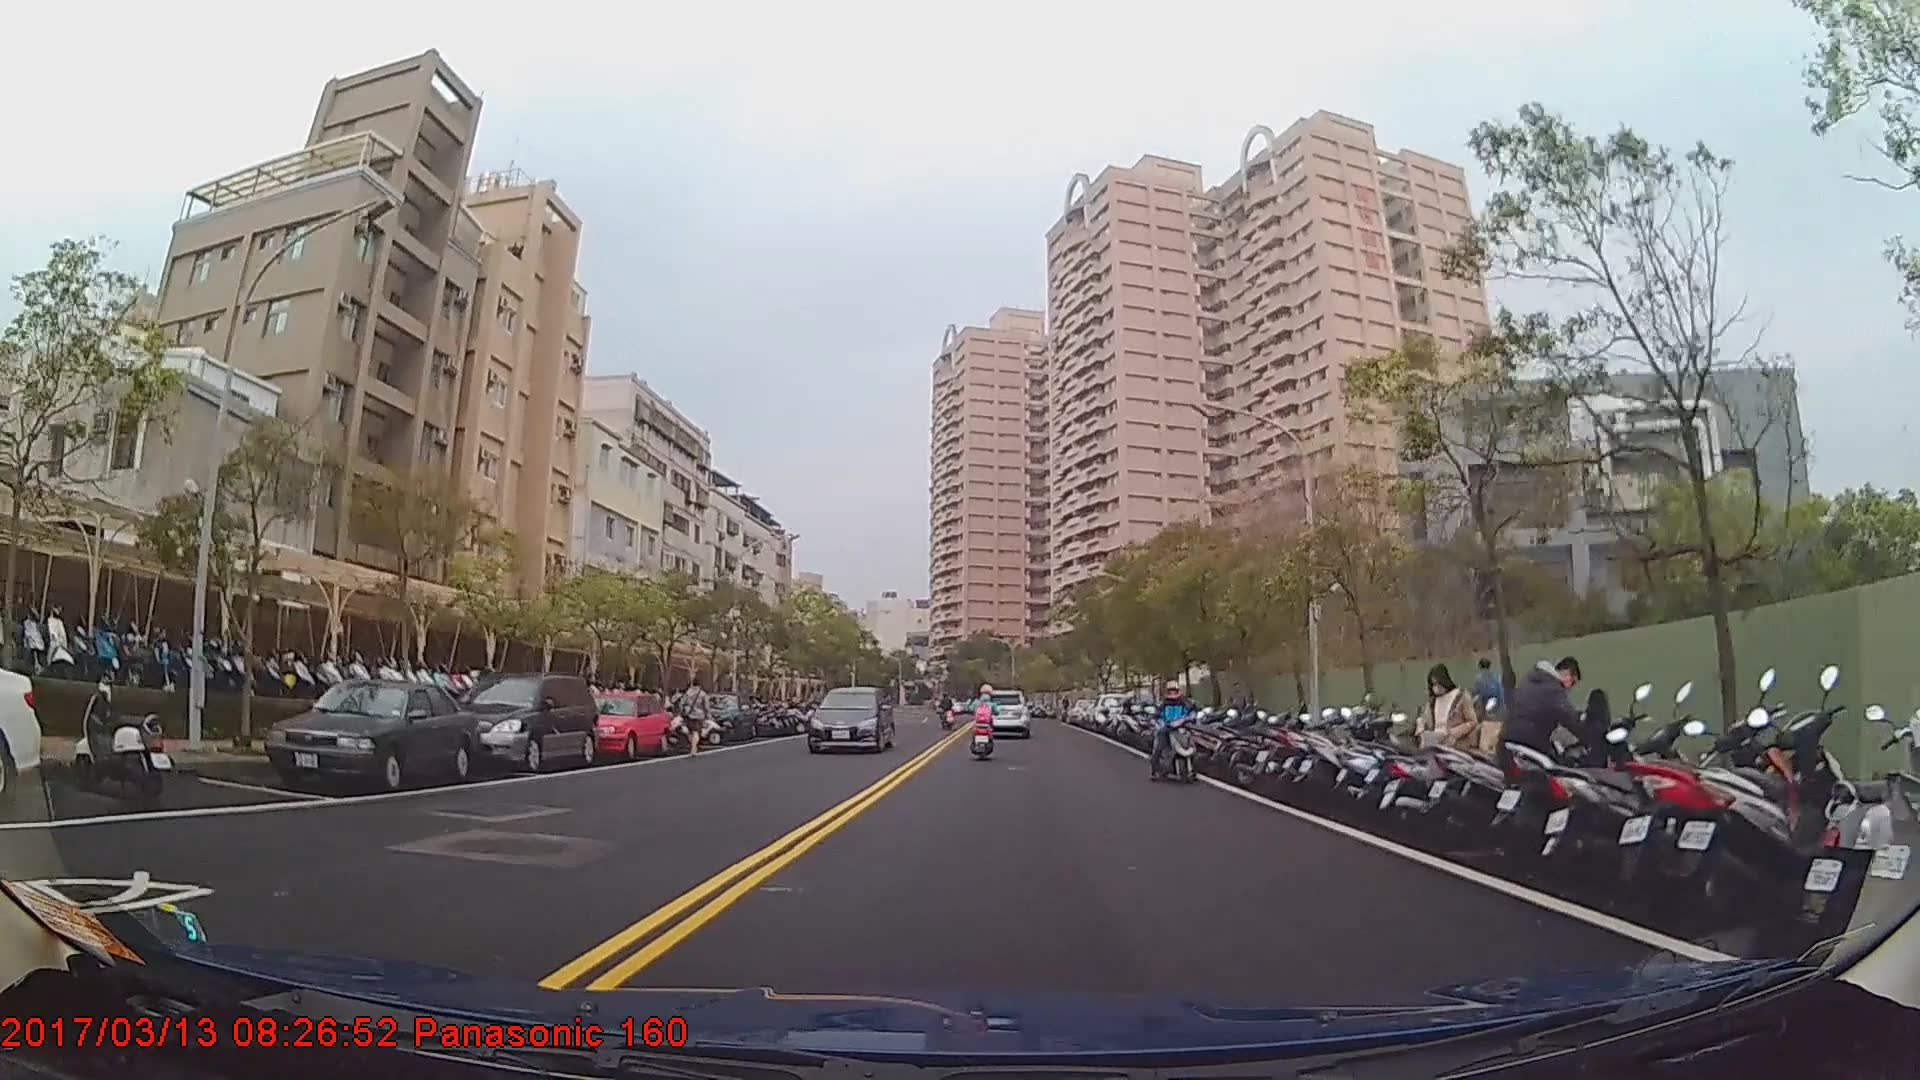pedestrian: (1502, 656, 1604, 849), (1420, 664, 1485, 830), (1476, 653, 1514, 768), (679, 679, 713, 759)
rider: (1146, 677, 1200, 781), (970, 683, 1002, 755)
vehicle: (262, 675, 479, 789), (443, 670, 598, 772), (571, 686, 673, 756), (804, 685, 894, 750), (978, 684, 1032, 738), (1087, 690, 1136, 734)
